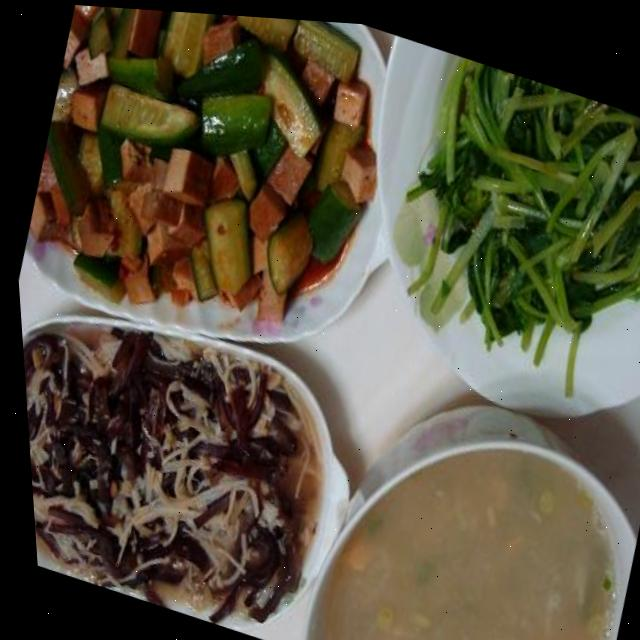蔬菜料理: (351, 36, 640, 429)
